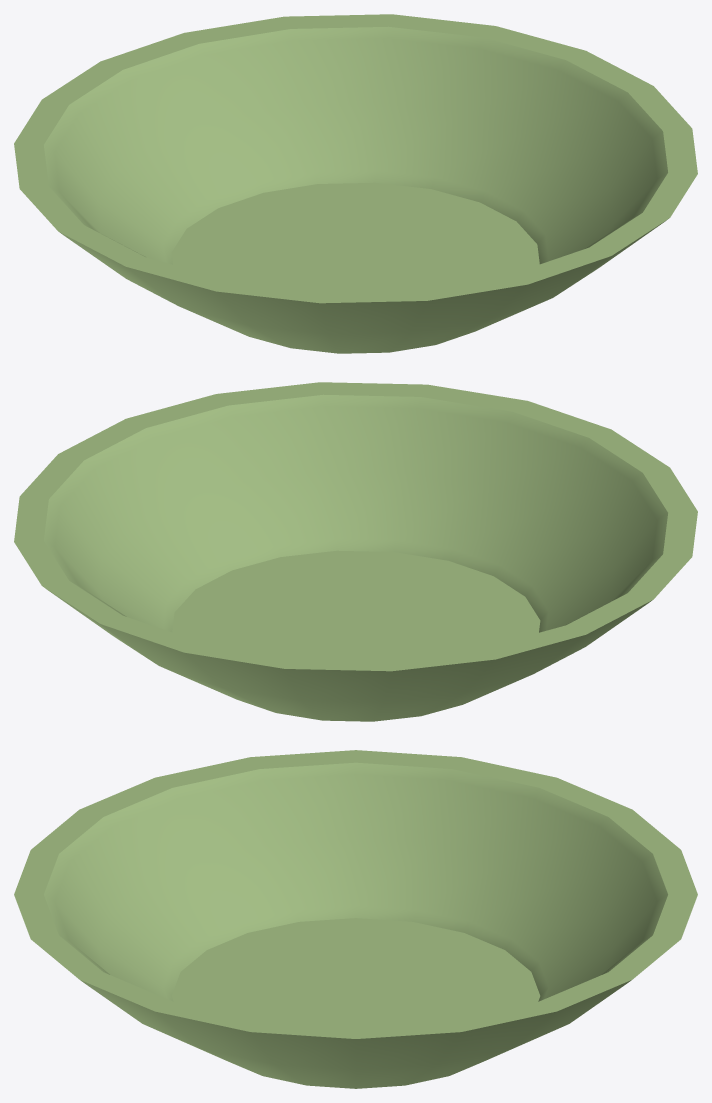
File: Bowl (1).fbx
3 views of the same model, one above another, from view 1: azimuth 30°, elevation 25°; view 2: azimuth 150°, elevation 25°; view 3: azimuth 270°, elevation 25° (orthographic).
Visible parts, largest first — view 1: Bowl_obj; view 2: Bowl_obj; view 3: Bowl_obj.
Boxes of the visible parts, x1,y1,x2,y2 form: Bowl_obj: (14, 14, 697, 353); Bowl_obj: (14, 382, 697, 721); Bowl_obj: (14, 750, 697, 1088).
Size of the model in its own units: 9.44 by 1.93 by 9.44.
